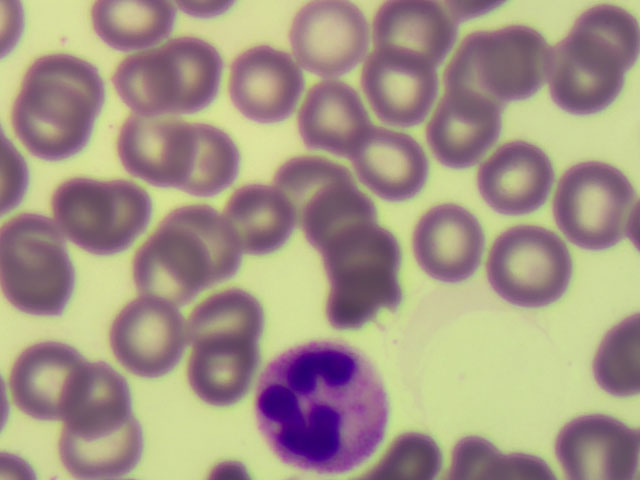RBC: (495, 231, 575, 306), (139, 220, 211, 303), (159, 211, 238, 284), (563, 164, 634, 245), (27, 50, 101, 126), (1, 239, 70, 316), (17, 85, 89, 157), (17, 348, 91, 418), (483, 28, 553, 101), (551, 40, 618, 116), (59, 415, 143, 475), (170, 124, 239, 197), (452, 29, 507, 118), (233, 47, 297, 123), (86, 178, 147, 256), (365, 52, 433, 121), (356, 132, 427, 198), (278, 153, 349, 218), (62, 370, 131, 436), (293, 2, 359, 71), (122, 115, 192, 180), (373, 4, 451, 62), (436, 94, 498, 166), (54, 178, 119, 246), (576, 6, 637, 78), (116, 302, 180, 369), (482, 144, 549, 207), (157, 42, 221, 107), (419, 210, 483, 275), (322, 229, 403, 278), (303, 83, 362, 150), (1, 214, 66, 274), (118, 52, 181, 113), (193, 299, 264, 353), (191, 337, 251, 399), (594, 318, 640, 397), (328, 274, 395, 328), (305, 189, 370, 243), (229, 191, 289, 248), (92, 1, 173, 40), (449, 437, 503, 480), (391, 434, 437, 480), (488, 448, 553, 480), (1, 137, 27, 211), (1, 1, 22, 61), (1, 453, 35, 480)
WBC: (259, 354, 382, 467)
